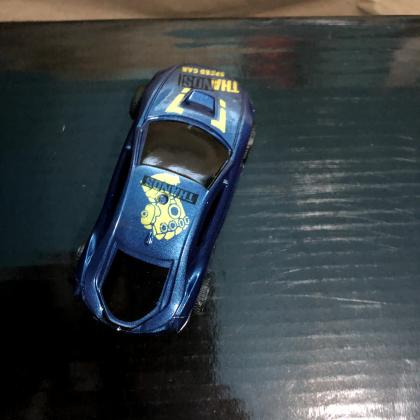Car: (70, 62, 258, 337)
